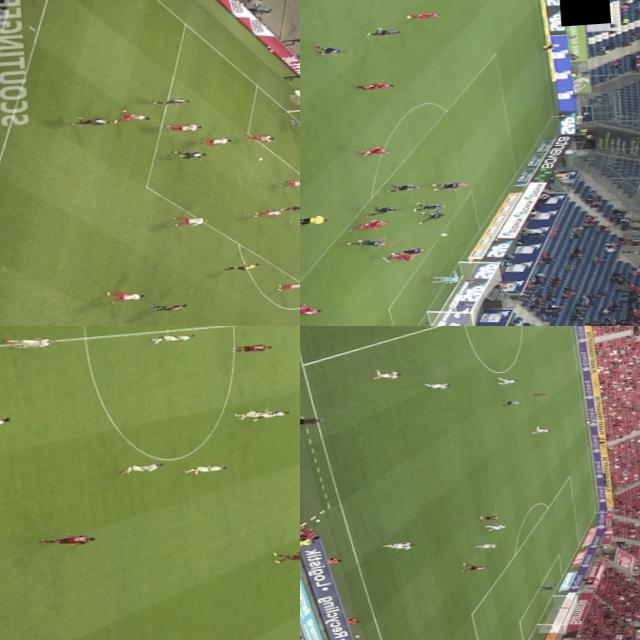ball: (254, 153, 269, 162), (437, 230, 451, 237), (478, 514, 488, 517)
player: (38, 532, 98, 548), (365, 199, 404, 220), (112, 460, 169, 474), (5, 334, 56, 349), (243, 406, 292, 421), (344, 234, 392, 249), (149, 331, 200, 345), (308, 42, 348, 58), (106, 286, 145, 302), (423, 270, 465, 284), (74, 111, 112, 126), (180, 462, 227, 474), (356, 76, 396, 90), (232, 341, 274, 354), (354, 144, 391, 158), (172, 146, 208, 160), (172, 212, 208, 226), (166, 120, 205, 132), (349, 218, 388, 230), (381, 182, 423, 193), (378, 538, 416, 550), (359, 26, 400, 37), (237, 406, 274, 418), (116, 109, 151, 121), (272, 547, 300, 562), (418, 207, 450, 220), (401, 10, 441, 20), (414, 198, 447, 210), (300, 299, 326, 314), (383, 251, 419, 261), (463, 559, 492, 571), (154, 301, 188, 311), (389, 245, 425, 254), (244, 132, 274, 142), (374, 368, 404, 378), (155, 96, 188, 105), (203, 134, 231, 144), (433, 180, 468, 188), (252, 208, 286, 216), (424, 378, 450, 388), (433, 180, 464, 188), (280, 176, 300, 187), (278, 280, 300, 290), (0, 414, 11, 432), (484, 522, 508, 530), (531, 424, 553, 432), (529, 388, 548, 397), (477, 514, 505, 520), (288, 115, 300, 128), (497, 376, 516, 384), (536, 584, 556, 591), (474, 542, 496, 548), (287, 200, 300, 210)
